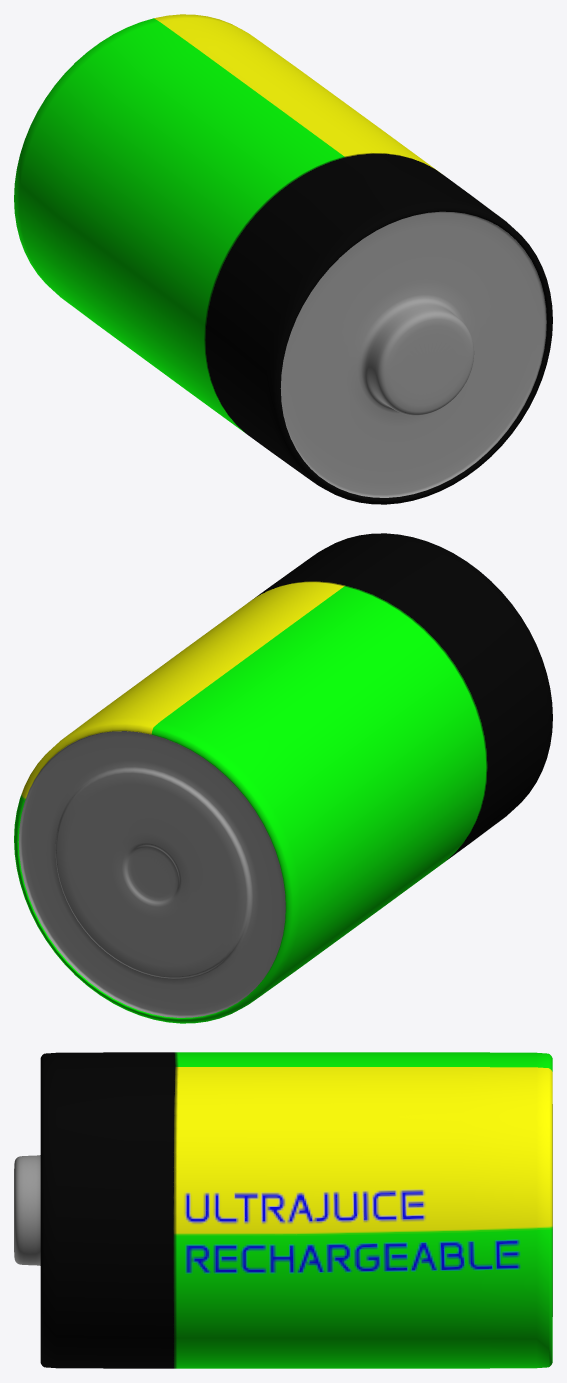
Rendered from battery.glb.
3 views of the same model, one above another, from view 1: azimuth 30°, elevation 25°; view 2: azimuth 150°, elevation 25°; view 3: azimuth 270°, elevation 25° (orthographic). The views are drawn at different scales.
Visible parts, largest first — view 1: Battery; view 2: Battery; view 3: Battery.
Part boxes in pixels (bbox=[...]): Battery: bbox=[14, 14, 552, 504]; Battery: bbox=[14, 533, 552, 1023]; Battery: bbox=[14, 1052, 552, 1368].
Size of the model in its own units: 0.6357 by 0.6357 by 1.08.
1 material, 1 textured.
